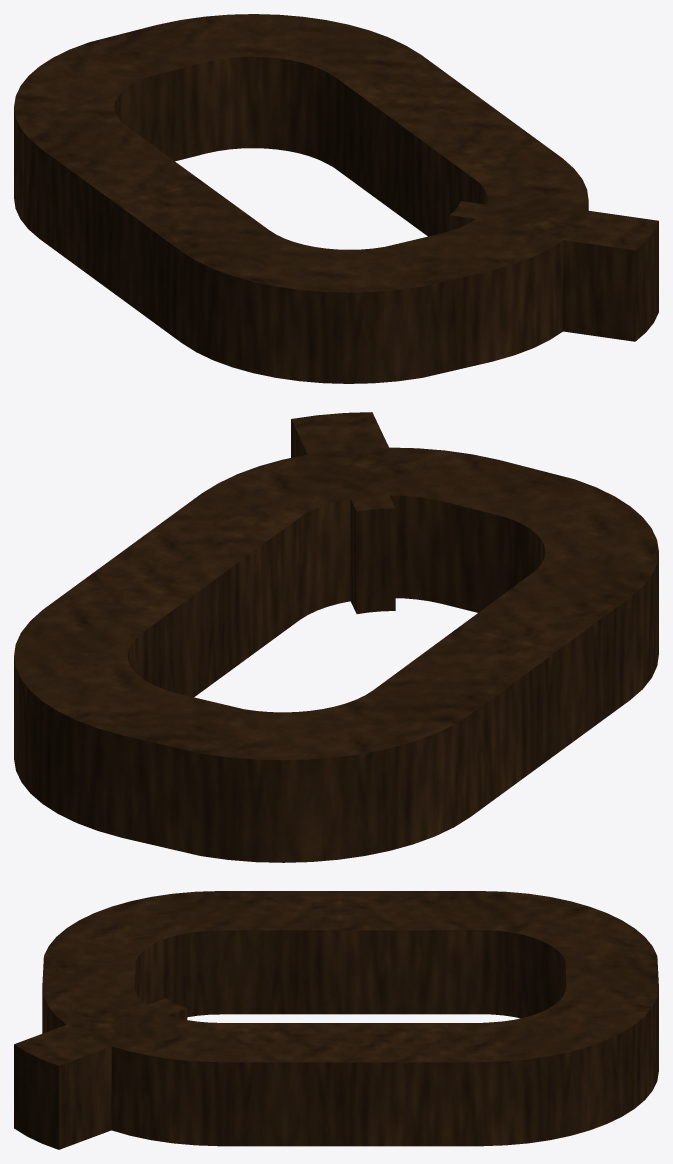
The model's file is LetterQ.obj.
The picture shows the model from 3 angles, top to bottom: view 1: azimuth 30°, elevation 25°; view 2: azimuth 150°, elevation 25°; view 3: azimuth 270°, elevation 25°; orthographic projection. The views are drawn at different scales.
Visible parts, largest first — view 1: LetterQ; view 2: LetterQ; view 3: LetterQ.
Part boxes in pixels (x1,y1,x2,y2): LetterQ: (14,14,658,383); LetterQ: (14,412,658,862); LetterQ: (14,891,658,1149).
Size of the model in its own units: 0.6687 by 0.15 by 1.04.
